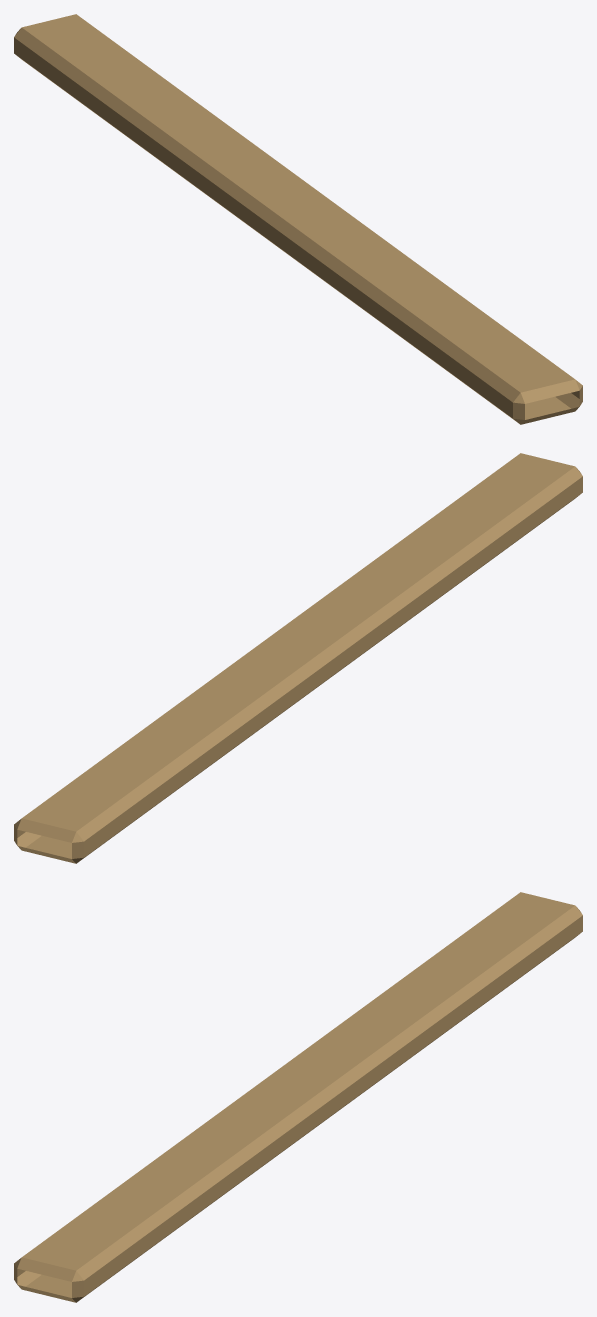
Rendered from wood.fbx.
3 renders of one model, top to bottom at view 1: azimuth 30°, elevation 25°; view 2: azimuth 150°, elevation 25°; view 3: azimuth 330°, elevation 25°, orthographic.
Parts seen in each view (by area): view 1: BenchWood03; view 2: BenchWood03; view 3: BenchWood03.
Boxes of the visible parts, <box> form: BenchWood03: <box>14,14,582,424</box>; BenchWood03: <box>14,453,582,863</box>; BenchWood03: <box>14,892,582,1302</box>.
Bounding box in the file's own units: 0.2867 × 0.126 × 3.6.
